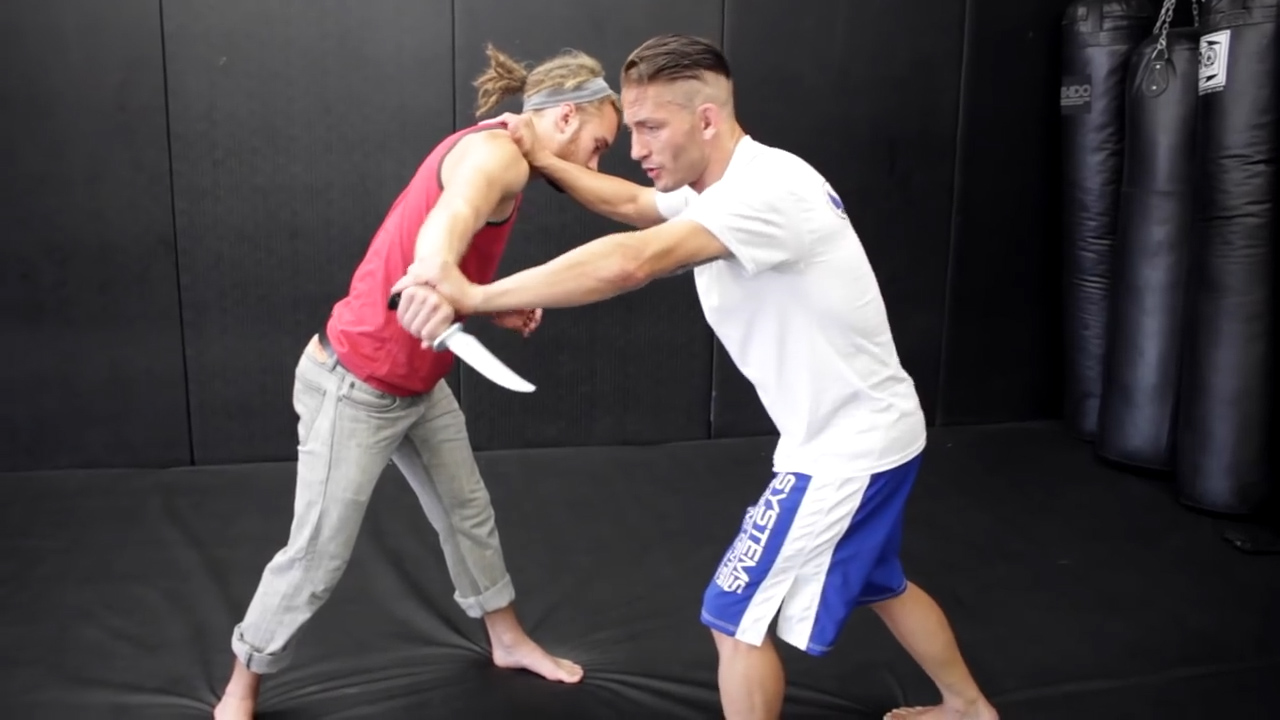knife: (385, 282, 546, 407)
